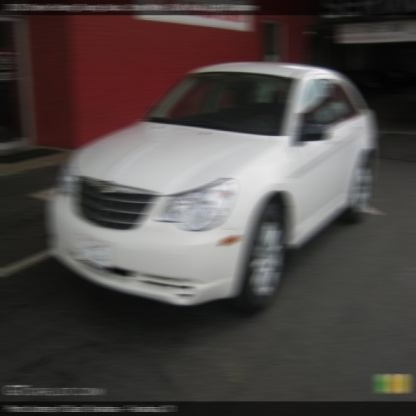Vehicle: (49, 59, 375, 319)
